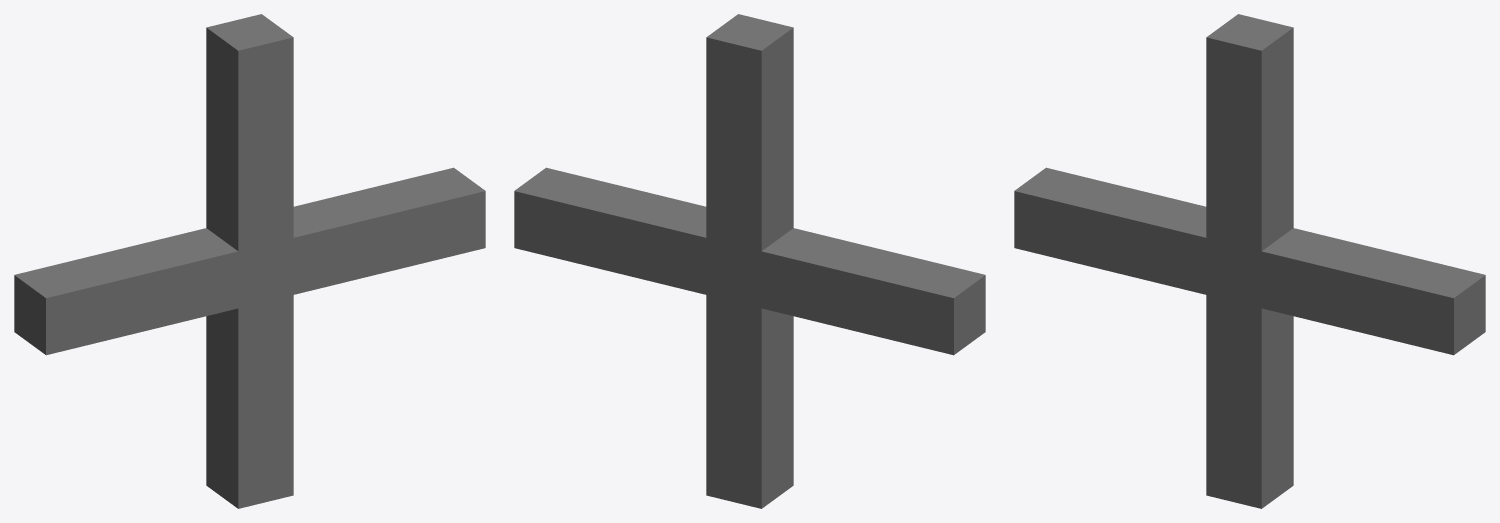
File: Window_01.fbx
3 renders of one model, left to right at view 1: azimuth 30°, elevation 25°; view 2: azimuth 150°, elevation 25°; view 3: azimuth 330°, elevation 25°, orthographic.
Parts seen in each view (by area): view 1: Window_01; view 2: Window_01; view 3: Window_01.
Boxes of the visible parts, bbox=[...] form: Window_01: bbox=[14, 14, 485, 508]; Window_01: bbox=[514, 14, 985, 508]; Window_01: bbox=[1014, 14, 1485, 508].
Bounding box in the file's own units: 1.12 × 1.12 × 0.1412.
